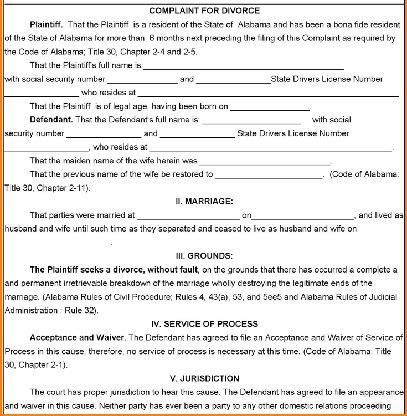textline: (136, 86, 400, 99), (147, 142, 394, 152), (142, 61, 345, 71), (197, 156, 331, 166), (213, 168, 324, 180), (135, 209, 242, 221), (250, 209, 354, 221), (201, 115, 301, 125), (2, 142, 90, 153), (228, 102, 312, 112), (194, 75, 271, 85), (66, 129, 143, 139), (2, 88, 78, 98), (159, 129, 235, 139), (106, 75, 178, 84)
